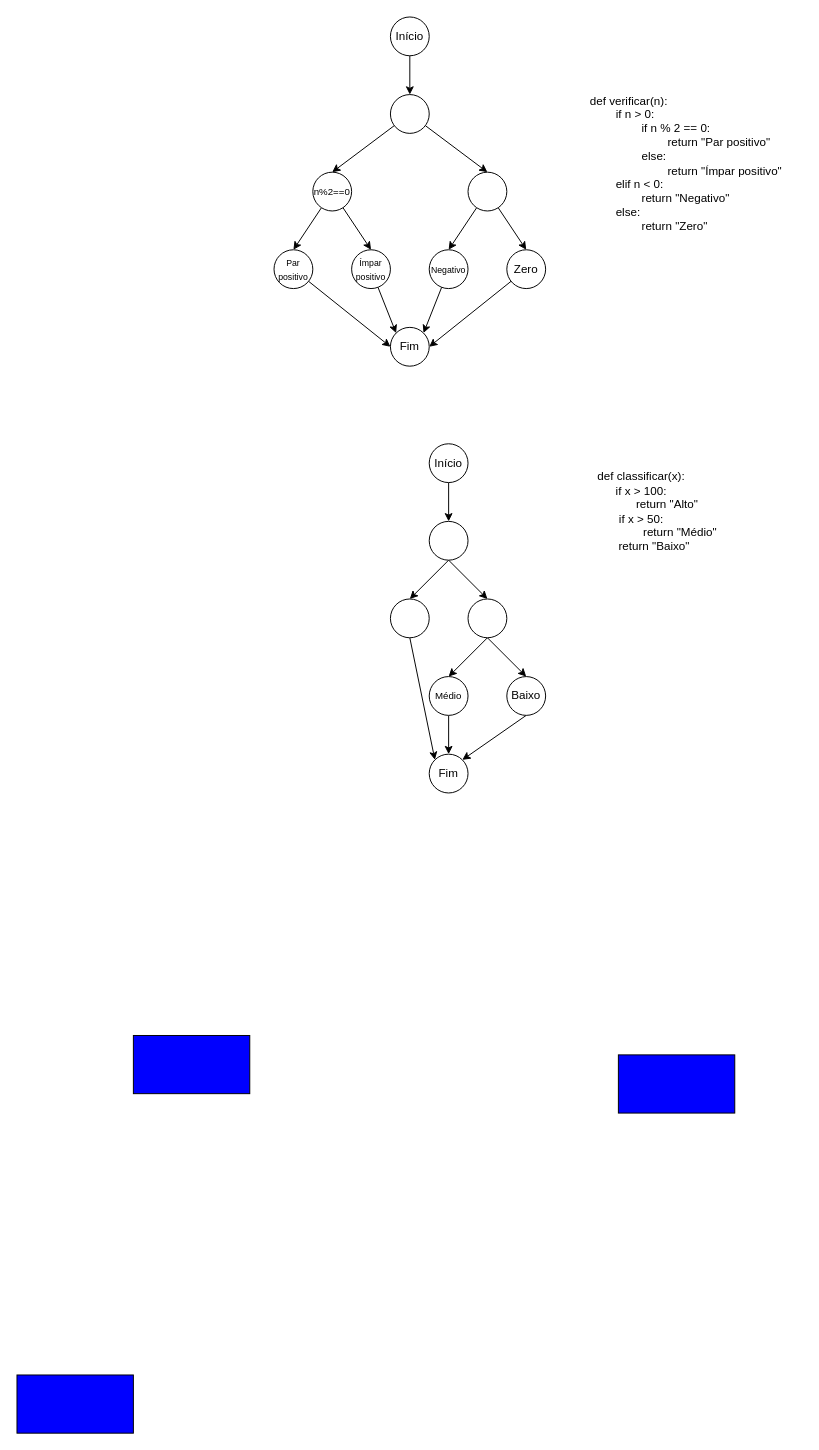
Some shapes in this 819 by 1450 pixel diagram are drawn without their labels. Here are the shapes that lost their labels. From the top down, the box of each, then its label:
(389, 94, 429, 133): n>0
(467, 171, 507, 211): n<0
(428, 520, 468, 560): X>100
(389, 598, 429, 638): Alto
(467, 598, 507, 638): X>50
